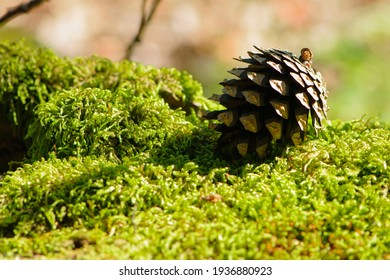Pc: (217, 40, 327, 161)
